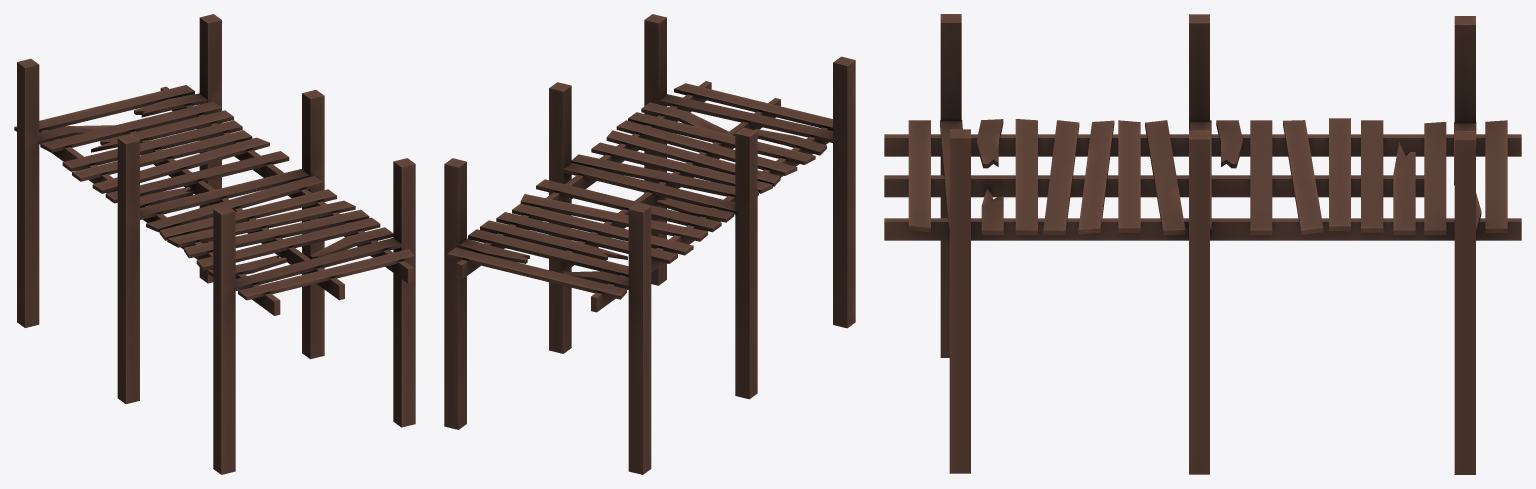
Rendered from Bridge_1.fbx.
The picture shows the model from 3 angles, left to right: view 1: azimuth 30°, elevation 25°; view 2: azimuth 150°, elevation 25°; view 3: azimuth 270°, elevation 25°; orthographic projection. The views are drawn at different scales.
Visible parts, largest first — view 1: Bridge_1; view 2: Bridge_1; view 3: Bridge_1.
Part boxes in pixels (box(x1,y1,x2,y2)): Bridge_1: box(14, 14, 415, 474); Bridge_1: box(444, 14, 855, 474); Bridge_1: box(884, 14, 1521, 474).
Size of the model in its own units: 89.57 by 192 by 111.
Materials: 1 (1 with a texture image).
